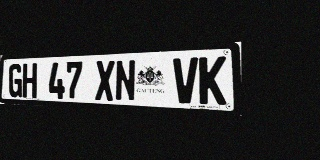4: (49, 62, 65, 99)
7: (65, 61, 82, 100)
G: (8, 64, 22, 98)
H: (22, 63, 37, 98)
K: (199, 56, 226, 105)
N: (115, 59, 136, 102)
V: (173, 57, 198, 104)
X: (95, 60, 115, 101)
